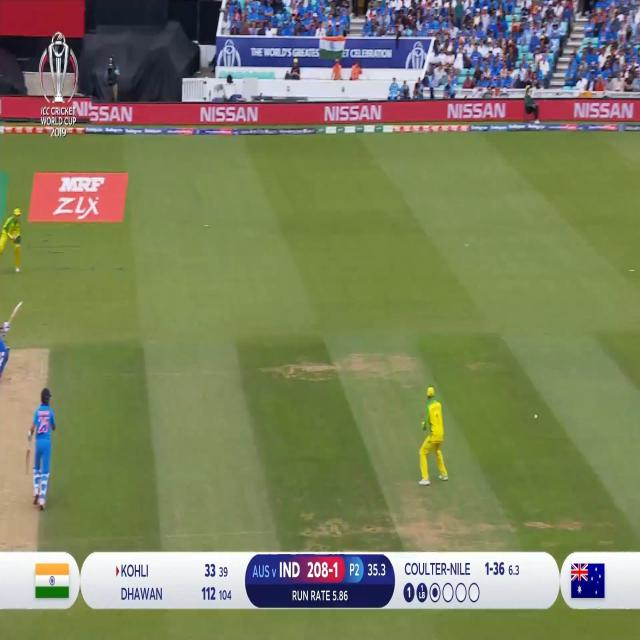ball: (531, 406, 542, 426)
